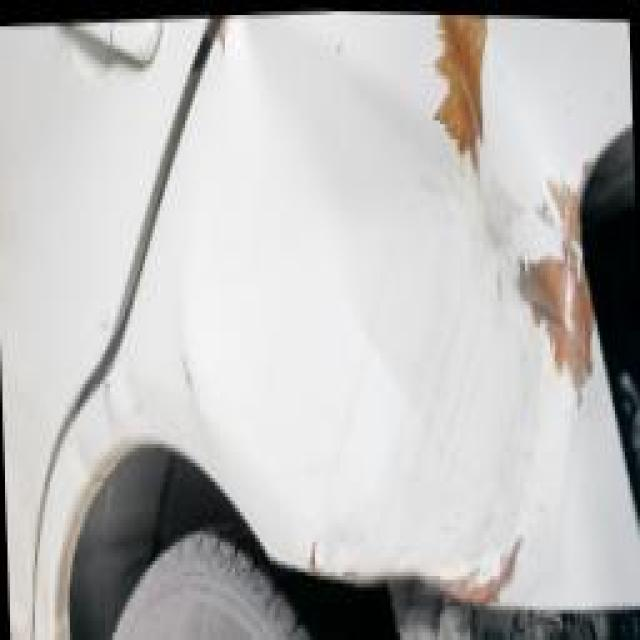Bumper: (210, 4, 640, 638)
